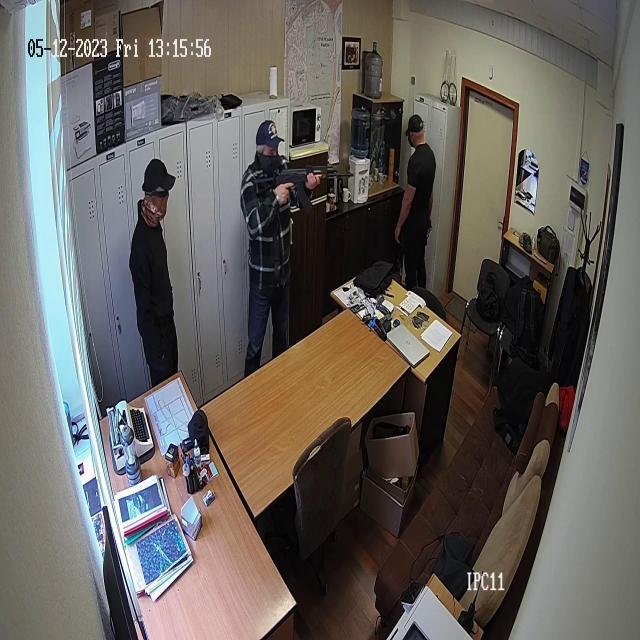pistol: (255, 163, 353, 214)
